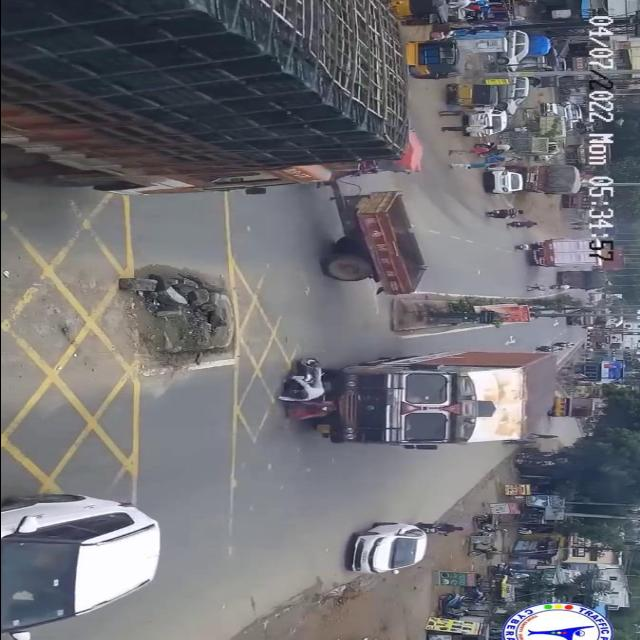accident: (268, 349, 558, 454)
non_accident: (0, 0, 432, 308), (435, 71, 537, 141), (464, 156, 584, 204)
